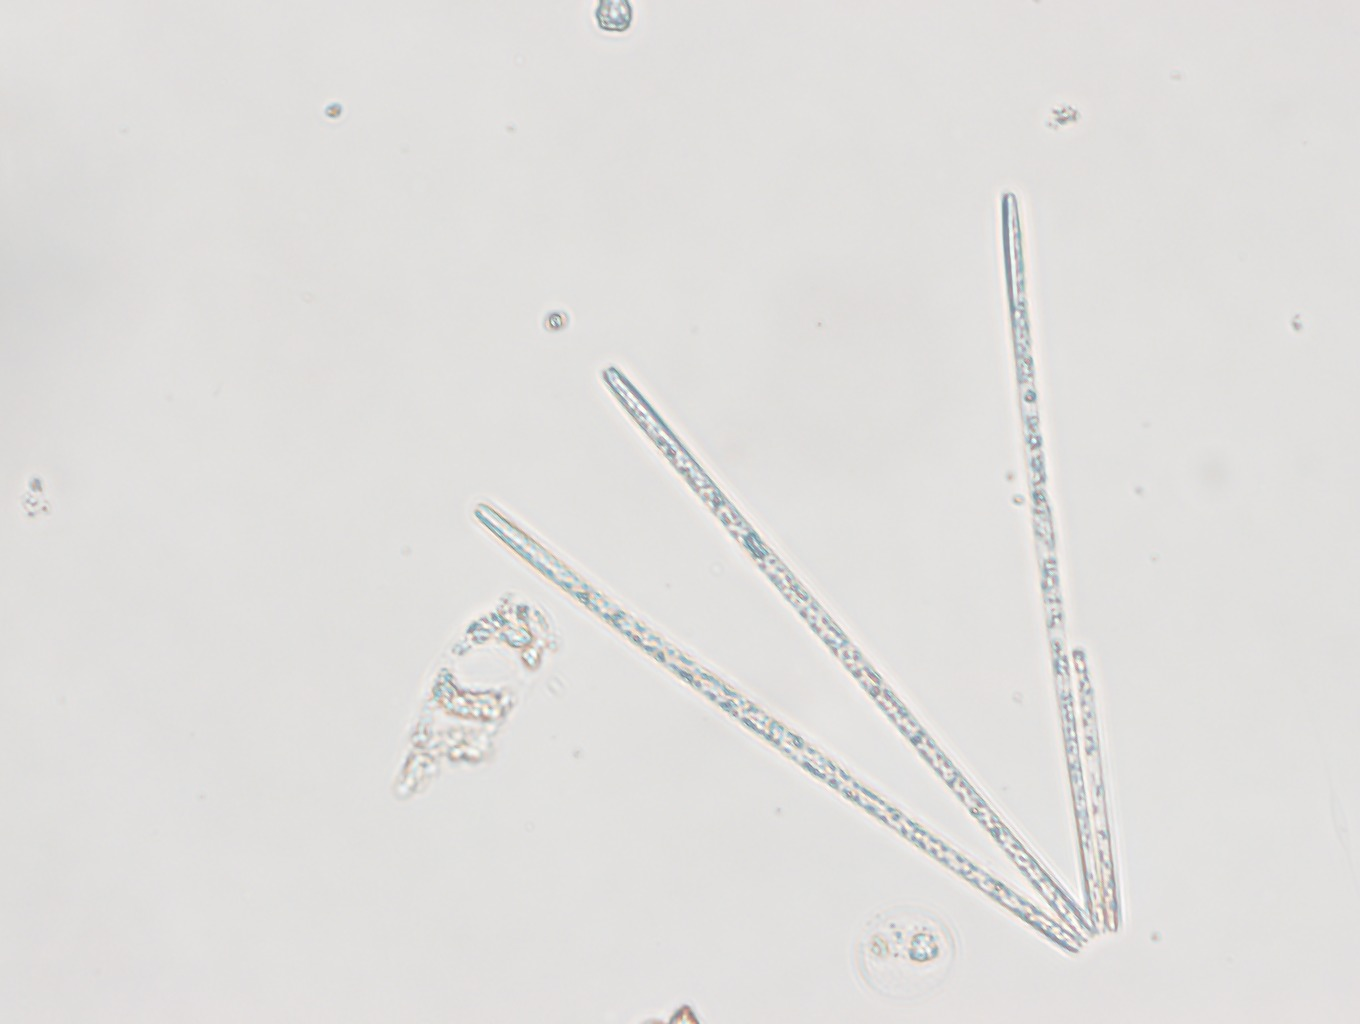eucampia: (396, 592, 555, 799)
thalassionema frauenfeldii: (473, 191, 1123, 952)
